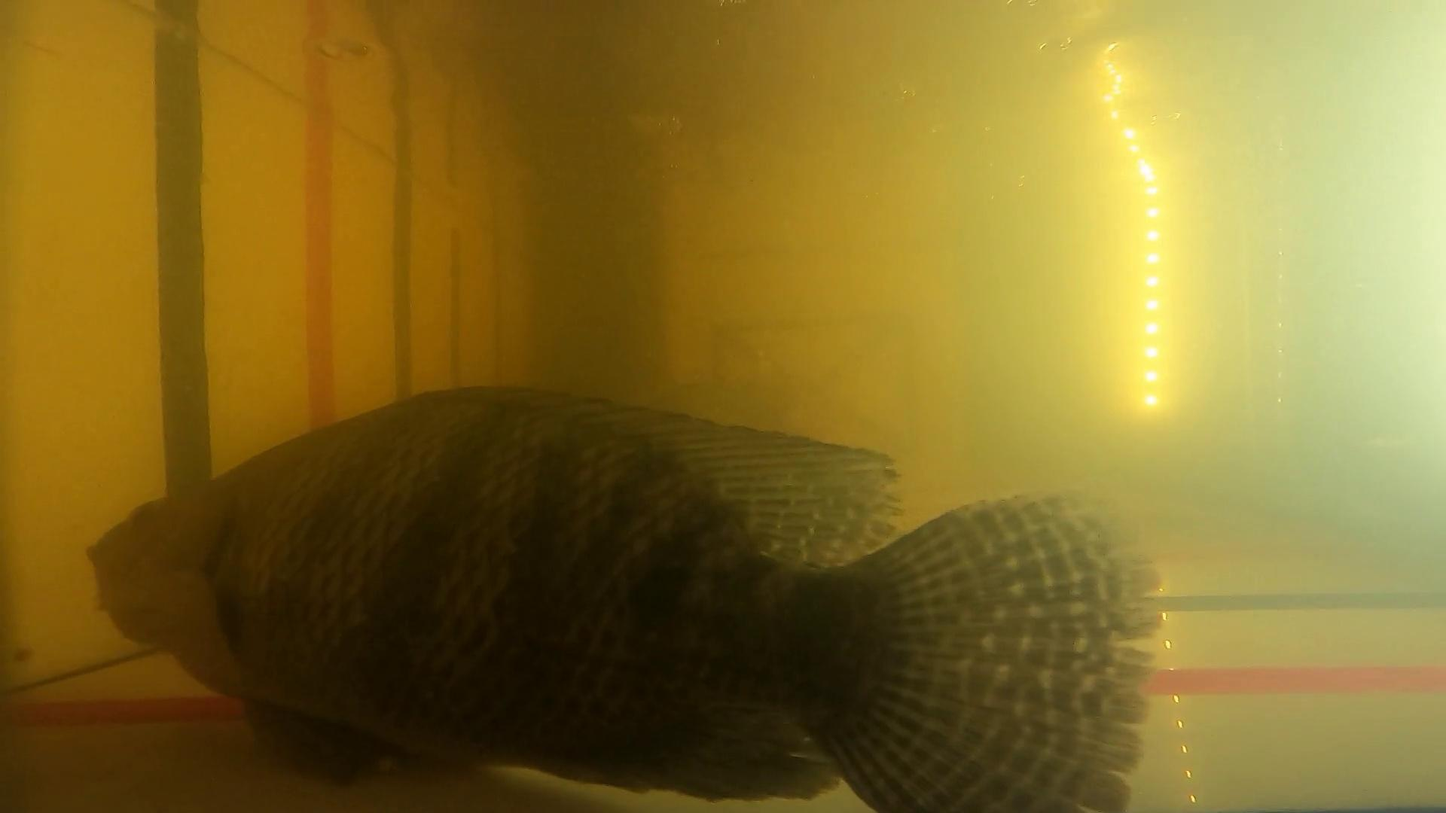Tilapia: (89, 388, 1160, 813)
